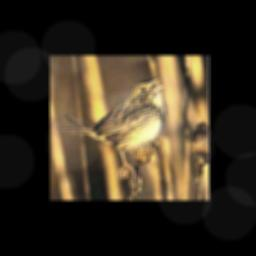Sparrow: (57, 76, 166, 180)
